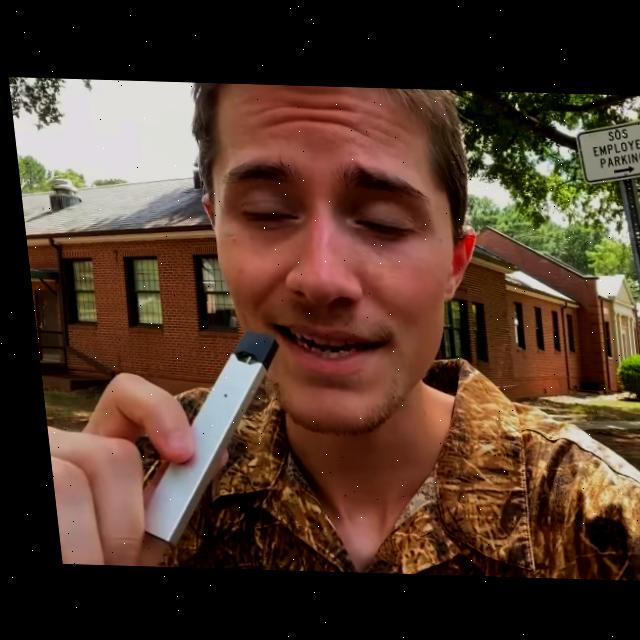vape: (114, 326, 289, 548)
